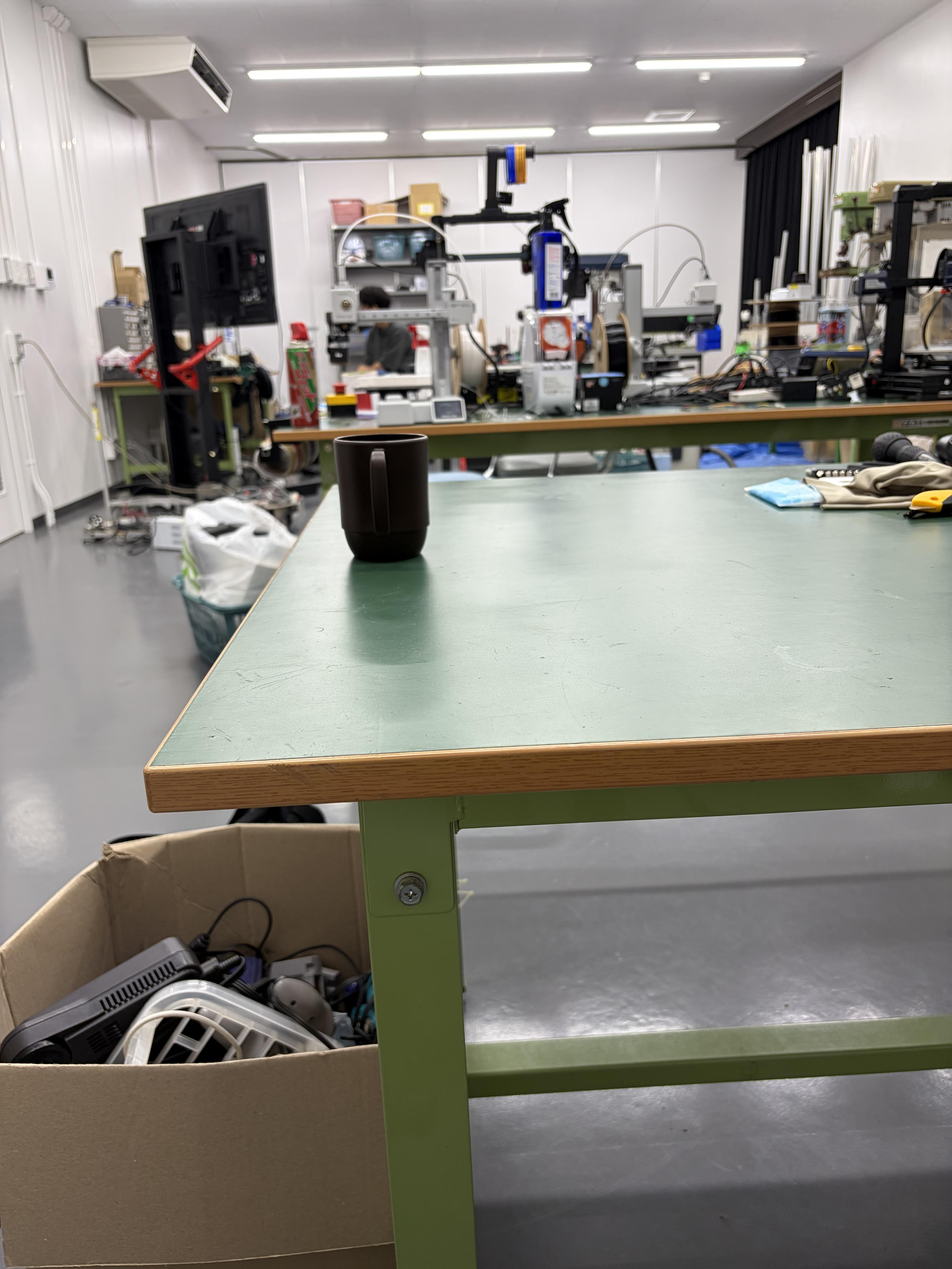mug-real100-3d100: (334, 432, 429, 562)
